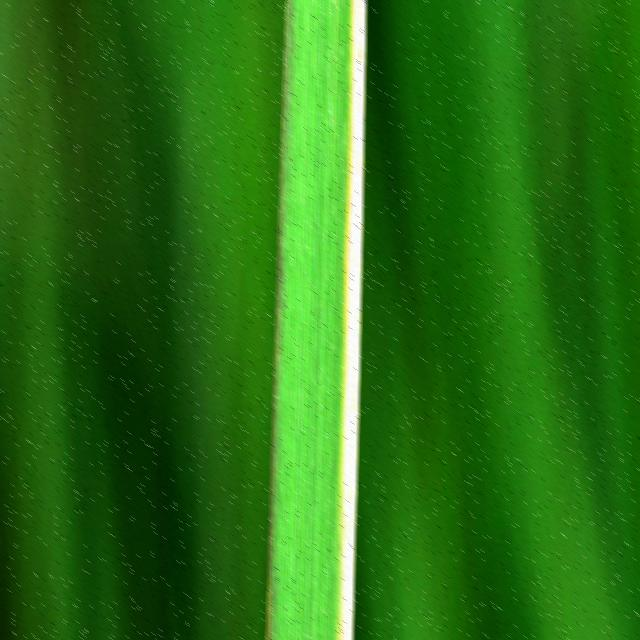BLB: (339, 0, 366, 636)
